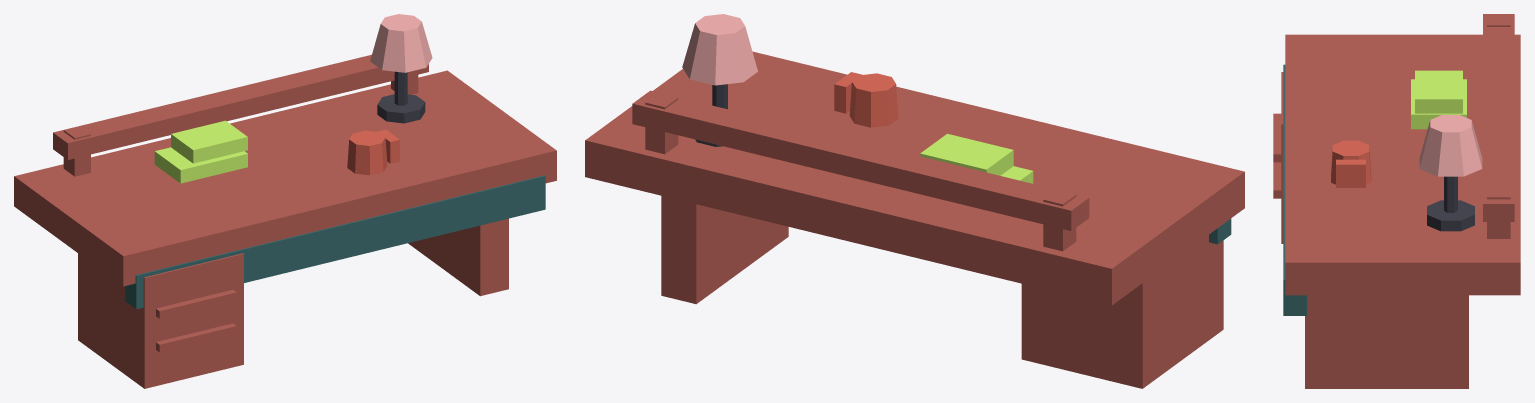
Rendered from desk.obj.
3 views of the same model, side by side, from view 1: azimuth 30°, elevation 25°; view 2: azimuth 150°, elevation 25°; view 3: azimuth 270°, elevation 25° (orthographic). The views are drawn at different scales.
Visible parts, largest first — view 1: soft_chunky_desktop, left_drawer_block, warm_front_apron, rear_cozy_shelf, right_trestle_panel, lamp_shade, book_stack_small, book_stack_big, mug_body, lamp_base, drawer_line_bottom, drawer_line_top (+2 smaller); view 2: soft_chunky_desktop, left_drawer_block, rear_cozy_shelf, right_trestle_panel, lamp_shade, book_stack_small, mug_body, left_shelf_post, right_shelf_post, mug_handle; view 3: soft_chunky_desktop, right_trestle_panel, rear_cozy_shelf, lamp_shade, book_stack_small, warm_front_apron, lamp_base, mug_body, mug_handle, book_stack_big, right_shelf_post, left_drawer_block (+4 smaller).
Boxes of the visible parts, x1,y1,x2,y2 form: soft_chunky_desktop: [14, 70, 556, 286]; left_drawer_block: [78, 253, 243, 388]; warm_front_apron: [125, 175, 545, 309]; rear_cozy_shelf: [53, 54, 428, 159]; right_trestle_panel: [408, 218, 508, 296]; lamp_shade: [370, 14, 432, 72]; book_stack_small: [171, 120, 247, 163]; book_stack_big: [154, 147, 247, 183]; mug_body: [347, 130, 387, 175]; lamp_base: [377, 94, 425, 123]; drawer_line_bottom: [156, 323, 236, 352]; drawer_line_top: [156, 290, 236, 318]; soft_chunky_desktop: [585, 51, 1244, 305]; left_drawer_block: [1021, 235, 1223, 388]; rear_cozy_shelf: [632, 90, 1089, 230]; right_trestle_panel: [661, 196, 788, 304]; lamp_shade: [682, 14, 757, 85]; book_stack_small: [920, 133, 1013, 175]; mug_body: [849, 73, 898, 127]; left_shelf_post: [1043, 190, 1076, 251]; right_shelf_post: [645, 93, 678, 154]; mug_handle: [834, 72, 862, 113]; soft_chunky_desktop: [1285, 34, 1520, 295]; right_trestle_panel: [1305, 295, 1468, 388]; rear_cozy_shelf: [1483, 14, 1514, 221]; lamp_shade: [1419, 115, 1482, 176]; book_stack_small: [1415, 70, 1462, 113]; warm_front_apron: [1283, 64, 1306, 315]; lamp_base: [1427, 200, 1474, 231]; mug_body: [1331, 140, 1371, 184]; mug_handle: [1336, 159, 1365, 187]; book_stack_big: [1411, 79, 1466, 129]; right_shelf_post: [1487, 189, 1510, 238]; left_drawer_block: [1281, 72, 1283, 243].
Size of the model in its own units: 2.7 by 1.35 by 1.24.
